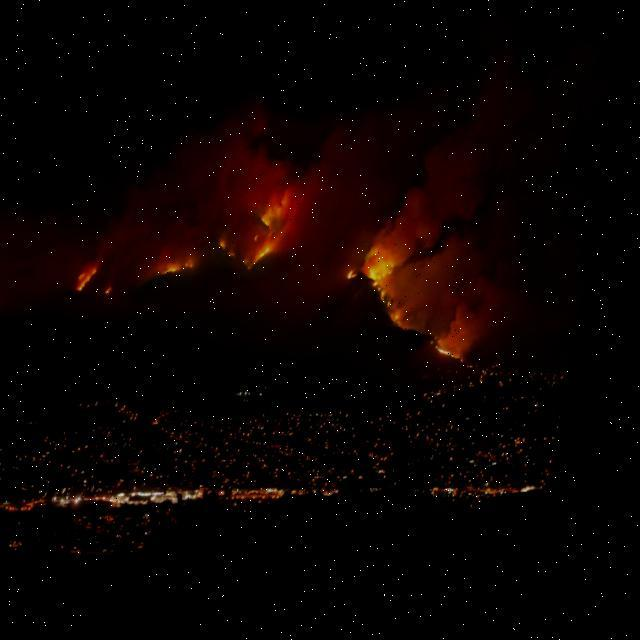Fire: (223, 182, 310, 276), (351, 242, 433, 337), (81, 253, 208, 295)
